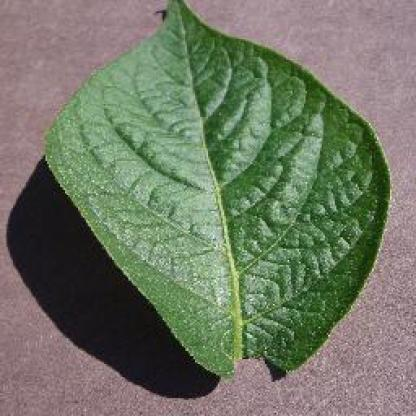good leaf: (79, 17, 373, 333)
